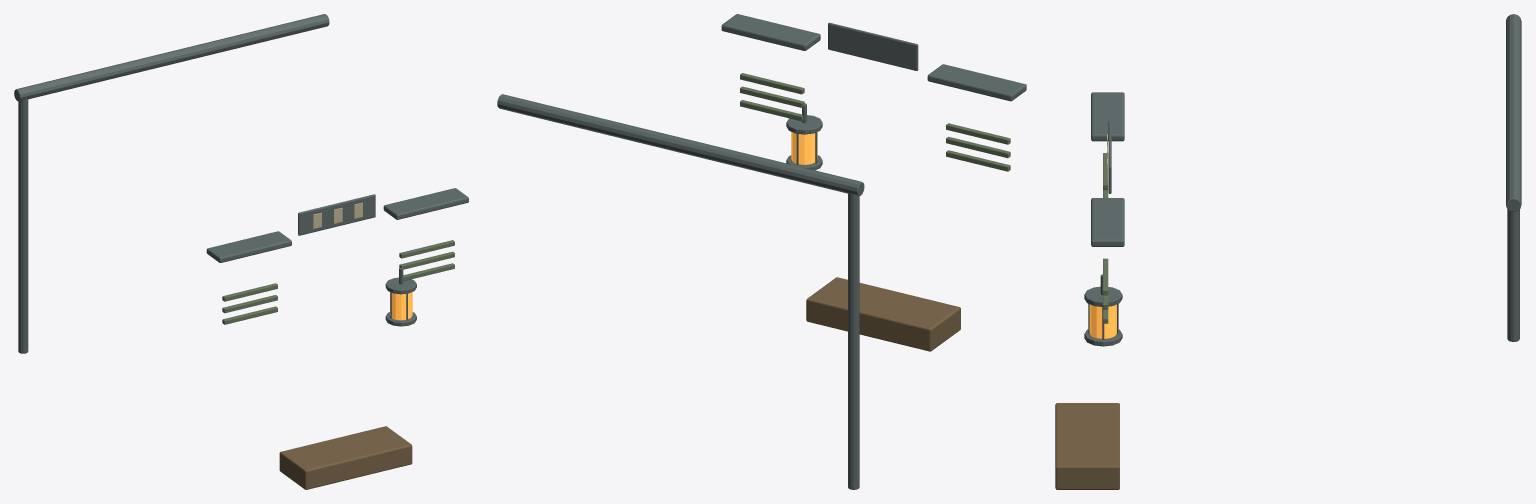
Rendered from lab_dressing.glb.
3 views of the same model, side by side, from view 1: azimuth 30°, elevation 25°; view 2: azimuth 150°, elevation 25°; view 3: azimuth 270°, elevation 25° (orthographic). The views are drawn at different scales.
Visible parts, largest first — view 1: CampDressing; view 2: CampDressing; view 3: CampDressing.
Boxes of the visible parts, left/top/right/bottom form: CampDressing: left=14, top=14, right=468, bottom=489; CampDressing: left=497, top=14, right=1026, bottom=489; CampDressing: left=1055, top=14, right=1521, bottom=489.
Bounding box in the file's own units: 1.96 × 1.75 × 2.09.
